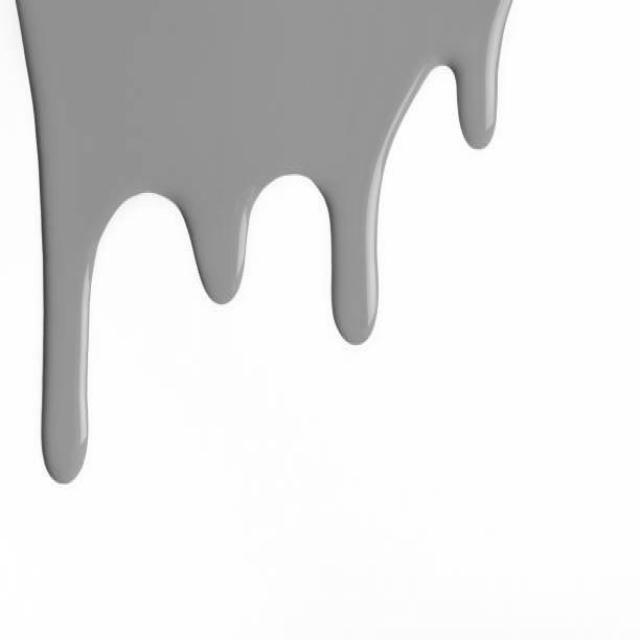paint drips: (21, 36, 514, 496)
